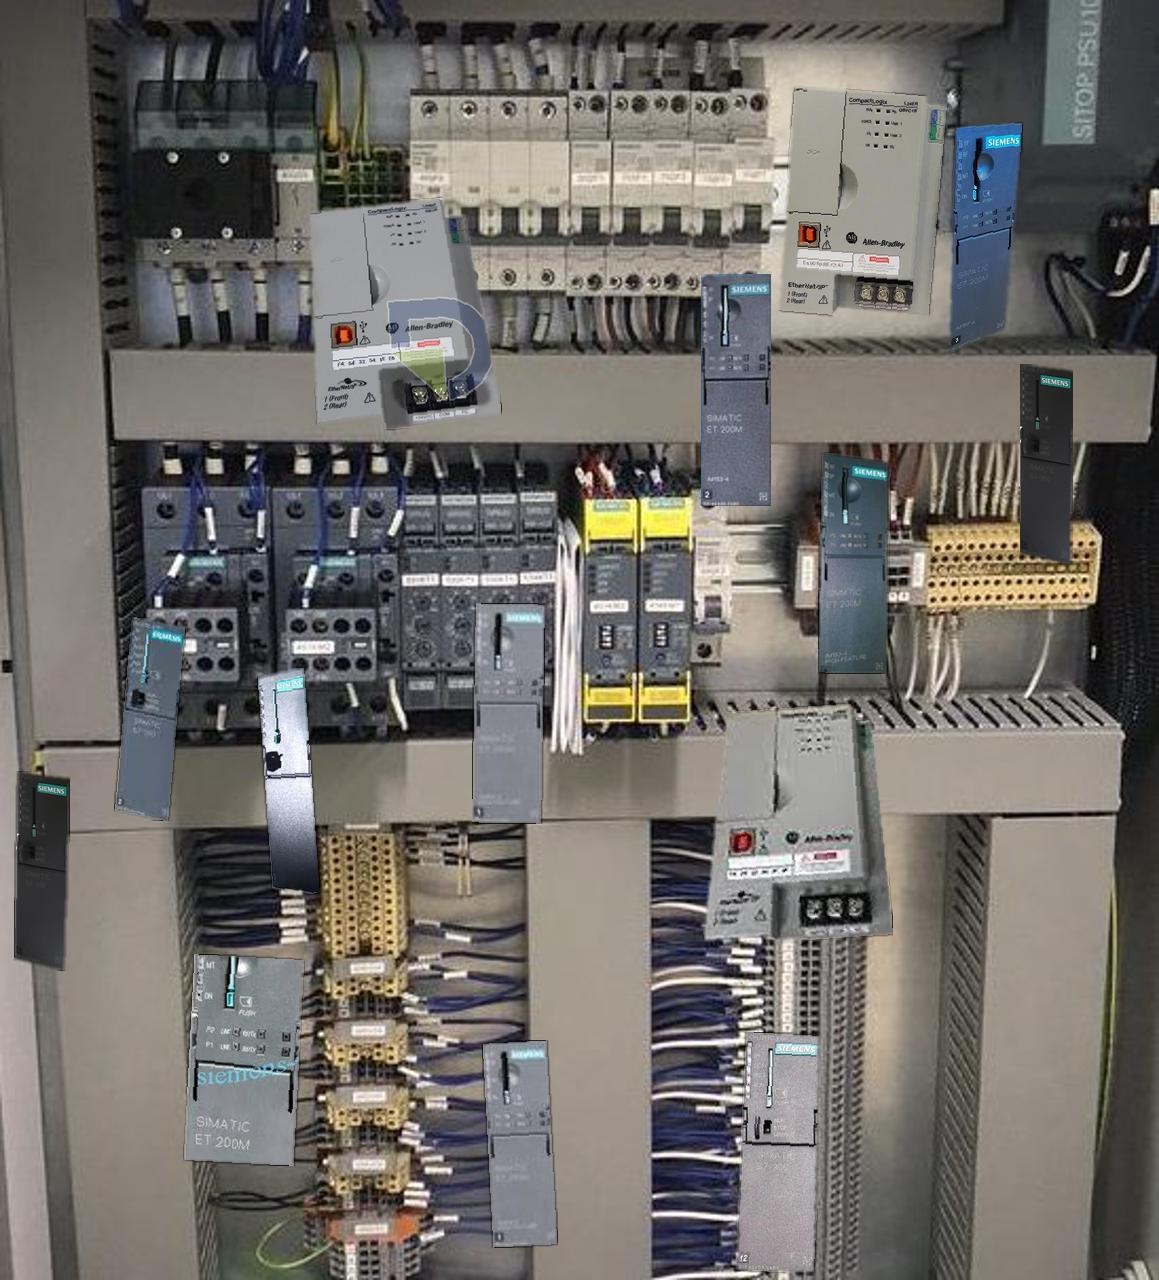AllenBradley: (704, 704, 892, 939), (310, 198, 500, 428), (779, 87, 945, 314)
Siemens: (737, 1032, 819, 1271), (115, 617, 184, 820), (258, 668, 319, 892), (15, 772, 69, 969), (1020, 363, 1072, 564)
